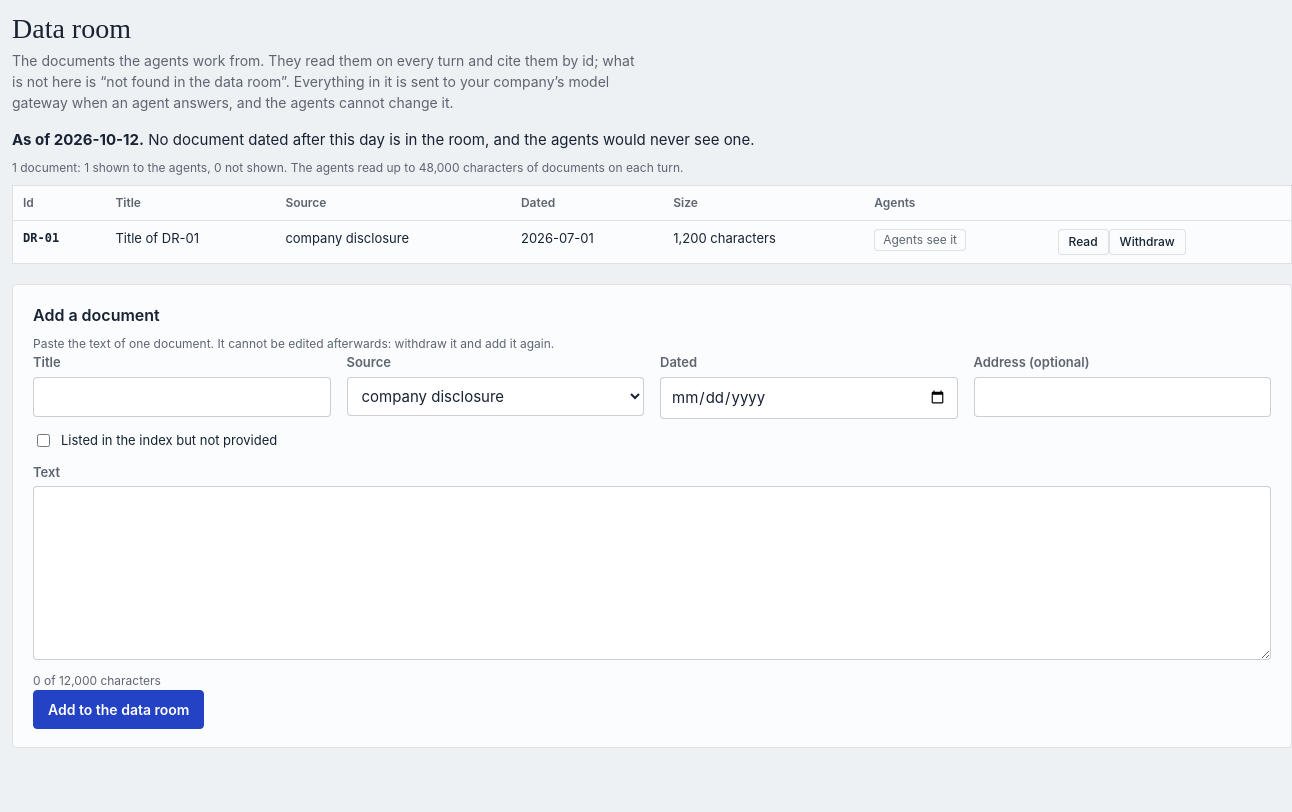
Test case: DataRoomPanel: the room › reads a document: loads its text, shows it, and closes it again
Click the button with aria-label "Read DR-01" at (1083, 242), box [1058, 229, 1109, 255]
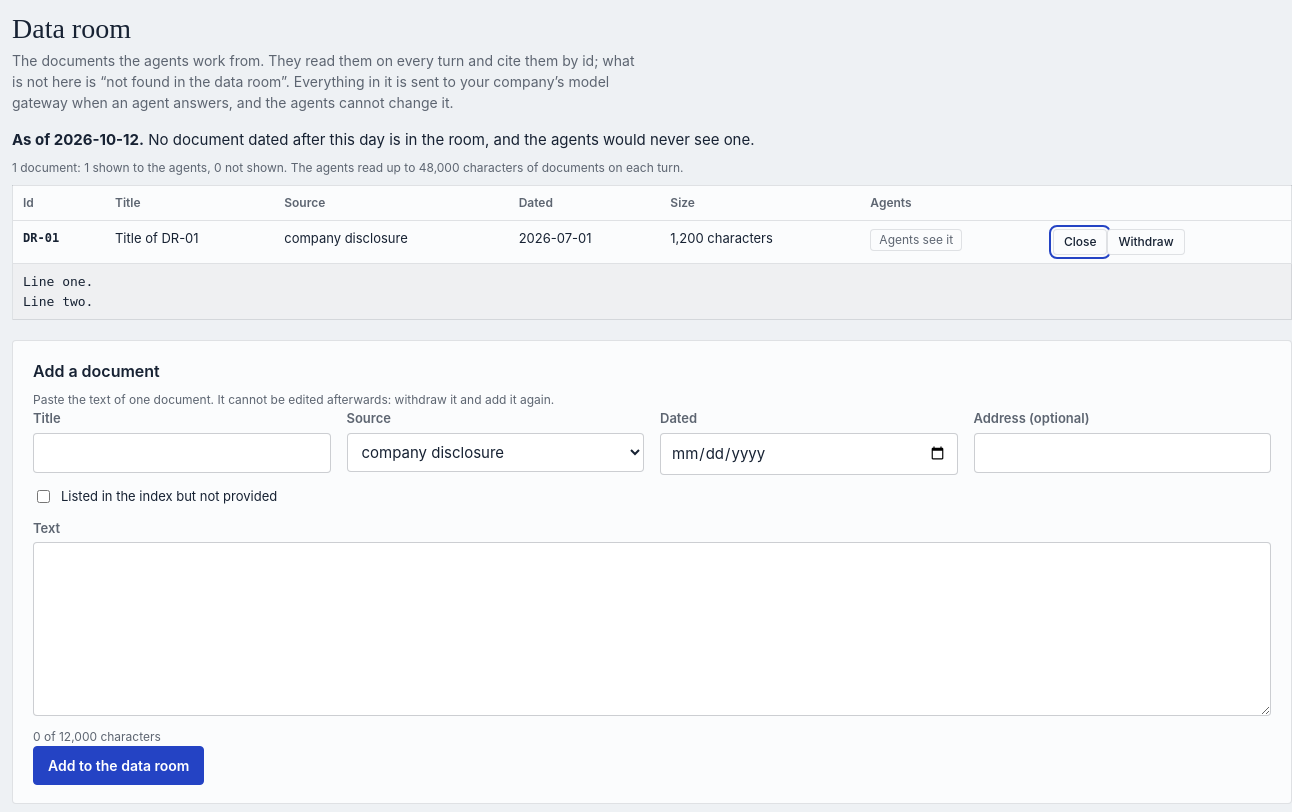
expect the text "Line one. Line two." is shown: met, box [23, 274, 94, 309]
Click the button with aria-label "Close DR-01" at (1080, 242), box [1053, 229, 1108, 255]
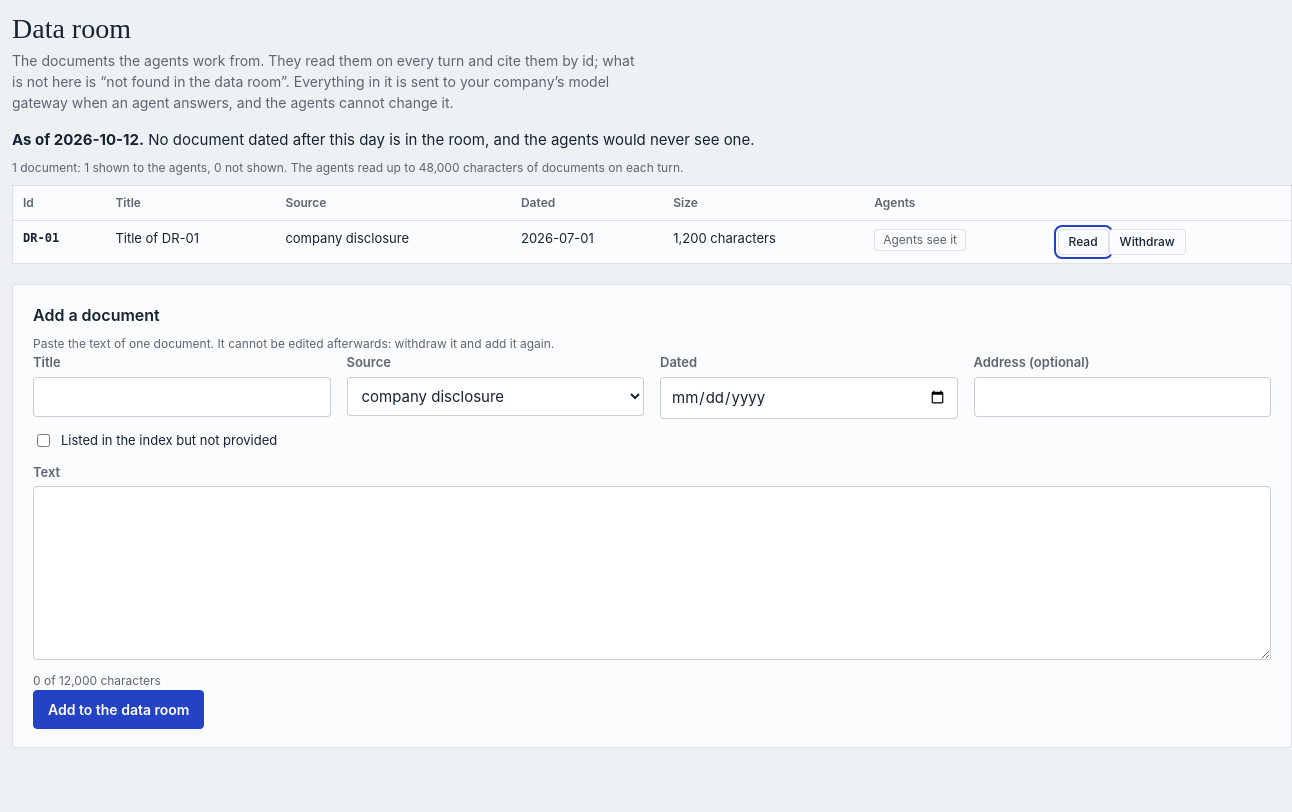
expect the text "Line one." is gone: met
